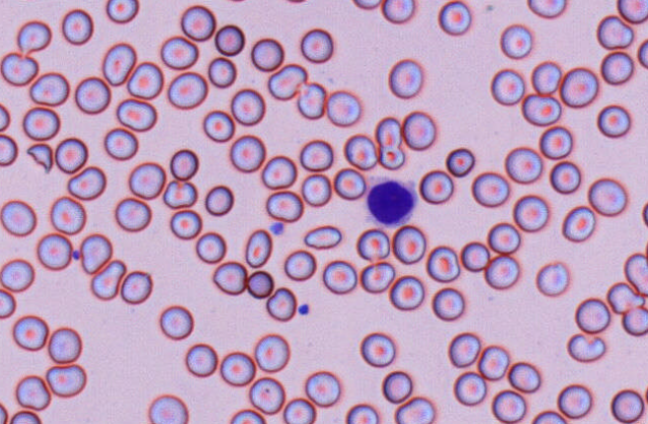MONO: (364, 174, 416, 226)
PLT: (269, 222, 284, 236), (297, 303, 311, 317)
RBC: (560, 66, 598, 107), (101, 42, 136, 86), (588, 177, 627, 216), (167, 71, 207, 109), (267, 63, 307, 100), (49, 195, 86, 234), (248, 376, 285, 414), (126, 61, 163, 99), (128, 161, 165, 199), (29, 71, 69, 106), (45, 363, 86, 397), (505, 146, 542, 183), (471, 171, 509, 207), (229, 134, 265, 172), (74, 76, 110, 114), (36, 232, 72, 270), (67, 165, 106, 200), (254, 333, 289, 372), (388, 58, 422, 98), (401, 110, 435, 150), (0, 199, 36, 236), (304, 370, 340, 407), (0, 51, 38, 86), (521, 93, 561, 126), (392, 224, 425, 264), (116, 98, 156, 131), (12, 314, 48, 350), (574, 297, 610, 333), (114, 197, 151, 232), (180, 4, 215, 41), (596, 14, 633, 49), (230, 88, 265, 125), (513, 194, 548, 231), (160, 35, 198, 69), (15, 374, 50, 410), (219, 351, 255, 386), (389, 274, 424, 310), (48, 326, 82, 363), (426, 245, 460, 282), (490, 68, 524, 105), (22, 106, 59, 140), (561, 205, 595, 242), (212, 260, 247, 295), (557, 383, 592, 418), (322, 259, 357, 294), (360, 332, 395, 367), (343, 133, 377, 169), (159, 304, 193, 340), (326, 90, 360, 126), (265, 190, 303, 222), (261, 155, 296, 189), (610, 388, 644, 423), (491, 389, 526, 423), (419, 169, 453, 204), (484, 255, 519, 289), (535, 261, 569, 296), (596, 104, 631, 138), (147, 394, 188, 423), (54, 137, 87, 173), (61, 8, 93, 45), (0, 258, 34, 292), (103, 127, 138, 160), (438, 0, 471, 35), (300, 28, 333, 63), (477, 344, 509, 380), (500, 23, 532, 59), (296, 81, 326, 119), (453, 371, 486, 405), (539, 125, 572, 159), (250, 37, 283, 71), (16, 20, 51, 52), (360, 261, 395, 293), (185, 342, 217, 377), (448, 332, 480, 367), (431, 287, 464, 320), (333, 167, 366, 200), (600, 51, 633, 84), (120, 270, 152, 304), (299, 139, 333, 171), (356, 228, 390, 260), (549, 160, 581, 194), (530, 60, 561, 95), (394, 396, 434, 423), (244, 229, 272, 267), (283, 249, 316, 281), (202, 109, 234, 142), (487, 222, 520, 254), (381, 370, 412, 403), (624, 252, 647, 296), (508, 361, 540, 392), (195, 231, 226, 263), (301, 173, 331, 206), (169, 209, 201, 239), (214, 24, 244, 56), (303, 224, 341, 249), (169, 148, 198, 180), (207, 56, 236, 88), (204, 184, 233, 216), (460, 241, 490, 271), (445, 147, 475, 177), (282, 397, 316, 423), (375, 116, 401, 148), (246, 269, 273, 298), (381, 0, 414, 23), (105, 0, 138, 23), (622, 306, 647, 336), (617, 0, 648, 23), (527, 0, 566, 18), (345, 403, 379, 423), (379, 146, 404, 169), (0, 133, 17, 166), (229, 408, 265, 423), (531, 409, 566, 423), (0, 288, 16, 318), (9, 410, 41, 423), (637, 38, 647, 68), (0, 102, 10, 131), (352, 0, 381, 9), (641, 200, 648, 227), (0, 402, 8, 423), (283, 0, 309, 4), (644, 238, 648, 263), (644, 383, 648, 404), (223, 0, 250, 2)
Schistocyte: (90, 258, 129, 303), (79, 234, 113, 275), (567, 332, 610, 363), (607, 282, 646, 314), (266, 287, 298, 322), (162, 180, 198, 210), (26, 143, 54, 172)
